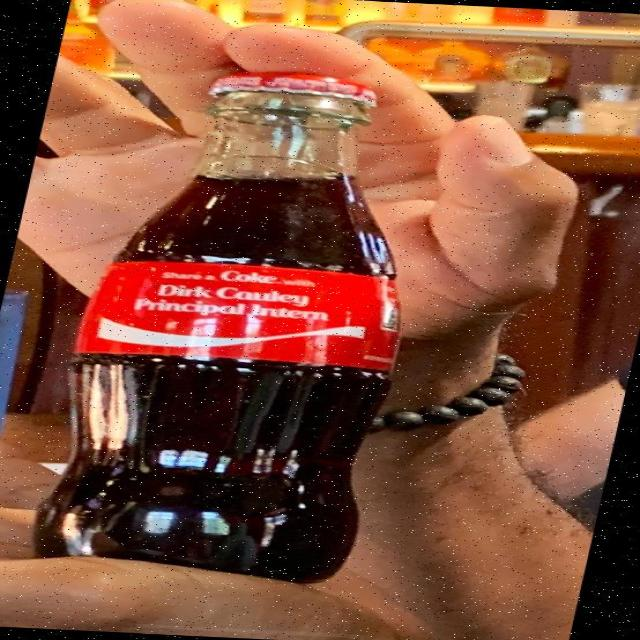coca-cola: (22, 57, 478, 594)
